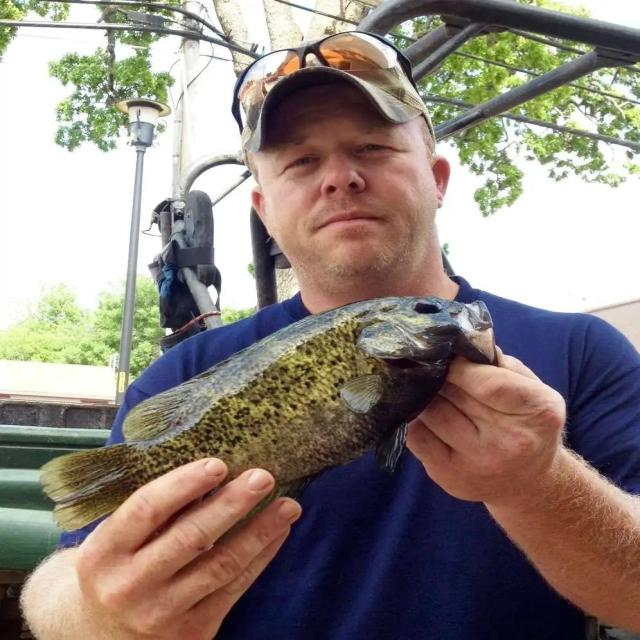Bass - Smallmouth: (40, 296, 496, 530)
